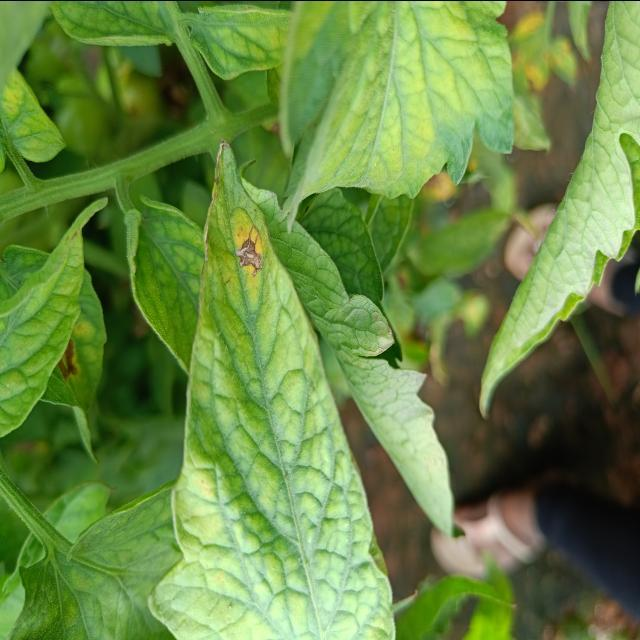Tomato mosaic virus leaf: (191, 136, 310, 318)
